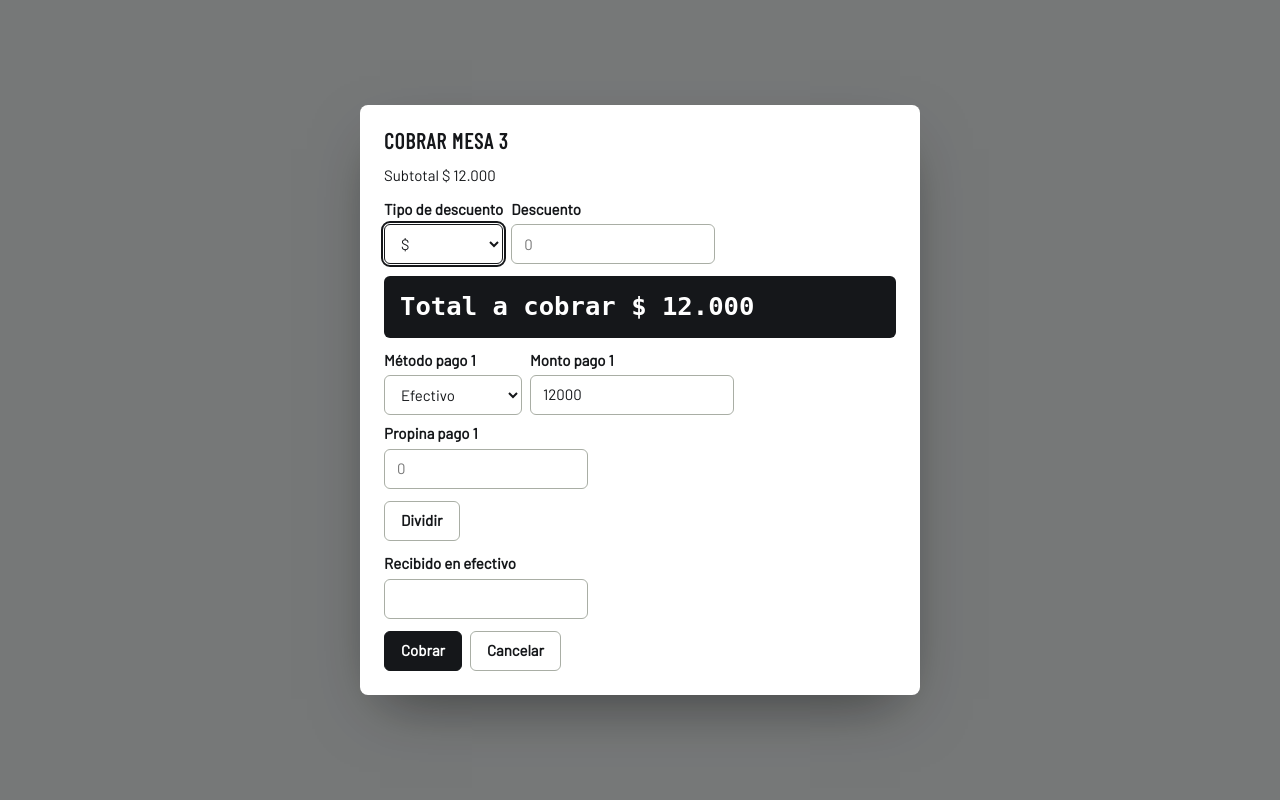
Test: con efectivo recibido muestra el vuelto
Type "15000" into the field labelled "Recibido en efectivo".
click(486, 599); type("15000")  # box top-left (384, 579), bottom-right (588, 619)
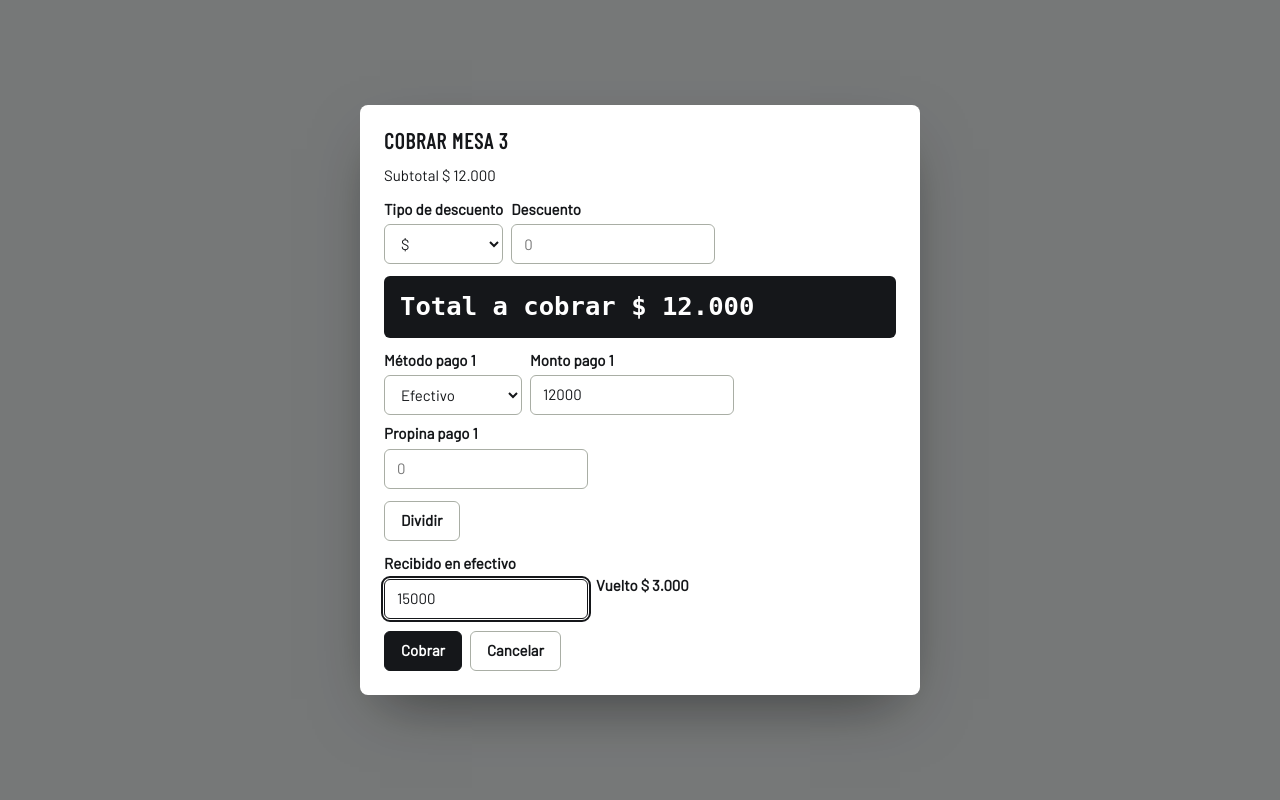
Check: the text "Vuelto $ 3.000" is shown, box top-left (596, 575), bottom-right (689, 597)
